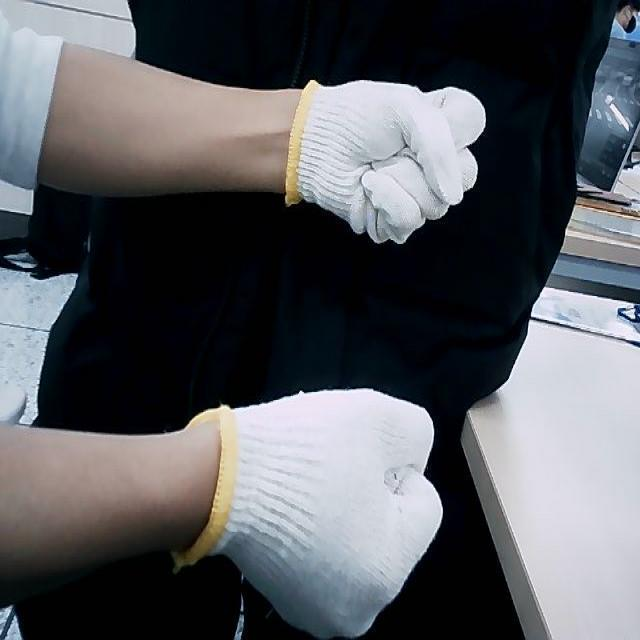gloved_hand: (221, 386, 444, 635), (288, 77, 487, 245)
